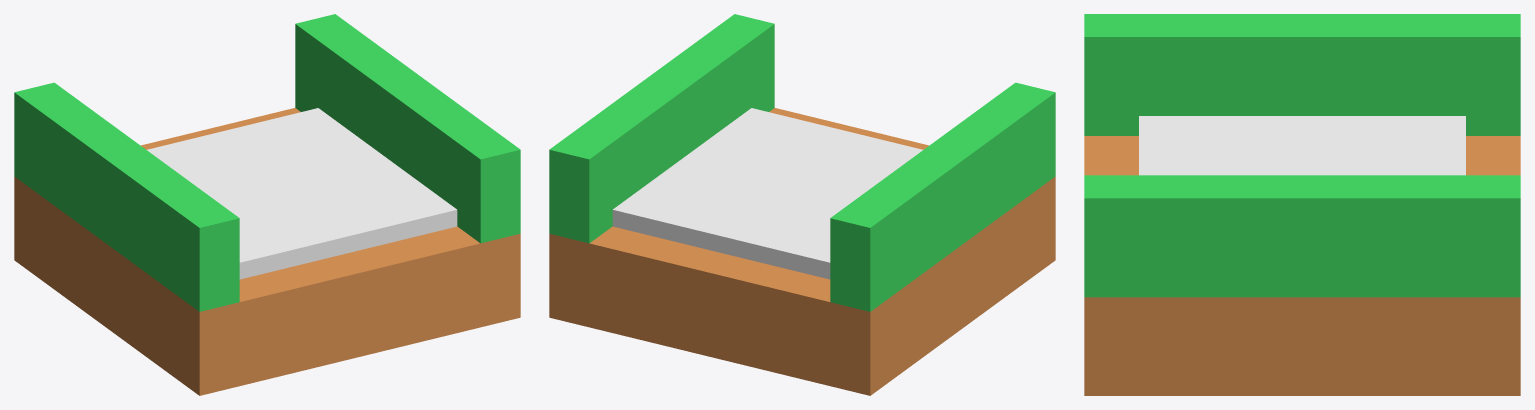
File: SpawnPoint.fbx
The picture shows the model from 3 angles, left to right: view 1: azimuth 30°, elevation 25°; view 2: azimuth 150°, elevation 25°; view 3: azimuth 270°, elevation 25°; orthographic projection. The views are drawn at different scales.
Parts seen in each view (by area): view 1: SpawnPoint; view 2: SpawnPoint; view 3: SpawnPoint.
Part boxes in pixels (left/top/right/bottom): SpawnPoint: left=14, top=14, right=520, bottom=395; SpawnPoint: left=549, top=14, right=1055, bottom=395; SpawnPoint: left=1084, top=14, right=1520, bottom=395.
Size of the model in its own units: 100 by 50 by 100.
